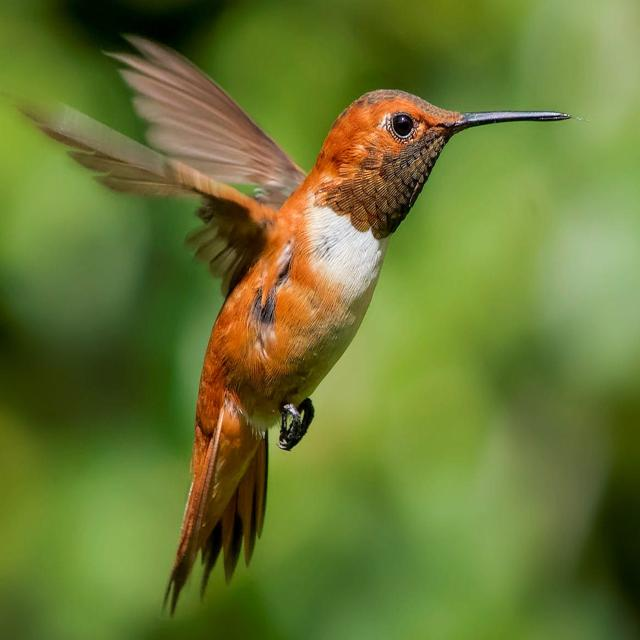Humming Bird: (22, 40, 566, 602)
